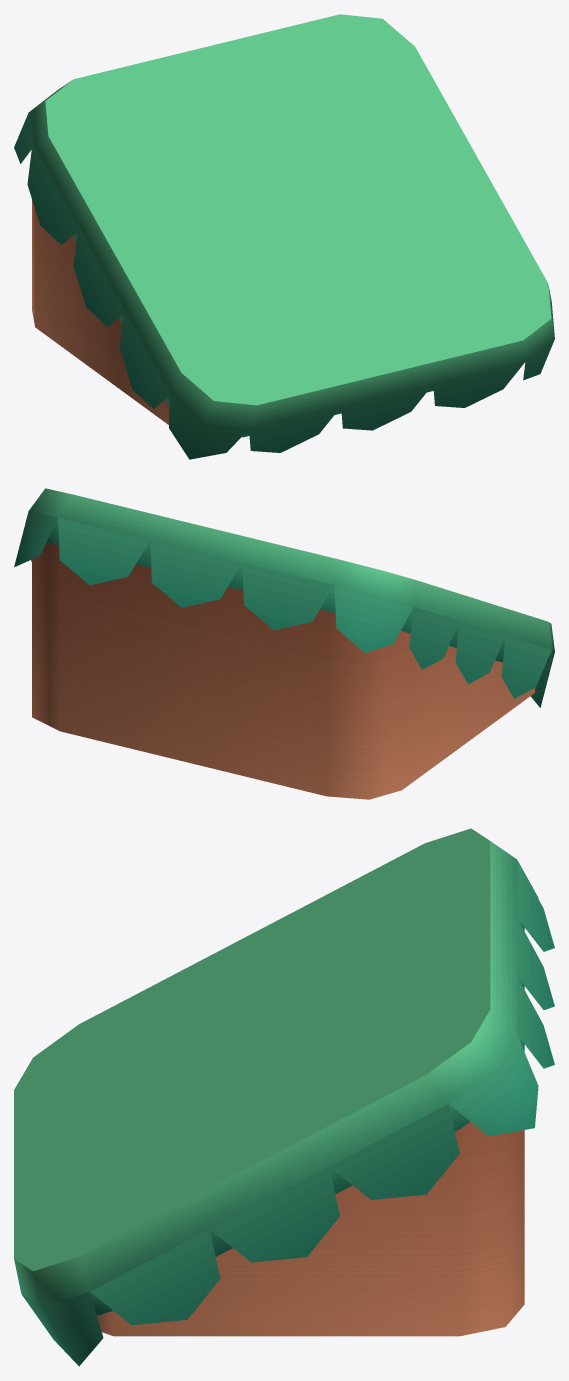
File: block-grass-overhang-large-slope-steep.glb
3 views of the same model, one above another, from view 1: azimuth 30°, elevation 25°; view 2: azimuth 150°, elevation 25°; view 3: azimuth 270°, elevation 25° (orthographic). The views are drawn at different scales.
Parts seen in each view (by area): view 1: block-grass-overhang-large-slope-steep; view 2: block-grass-overhang-large-slope-steep; view 3: block-grass-overhang-large-slope-steep.
Boxes of the visible parts, left/top/right/bottom form: block-grass-overhang-large-slope-steep: left=14, top=14, right=554, bottom=459; block-grass-overhang-large-slope-steep: left=14, top=488, right=554, bottom=799; block-grass-overhang-large-slope-steep: left=14, top=828, right=554, bottom=1366.
Size of the model in its own units: 2.08 by 1.37 by 1.97.
Materials: 1 (1 with a texture image).
